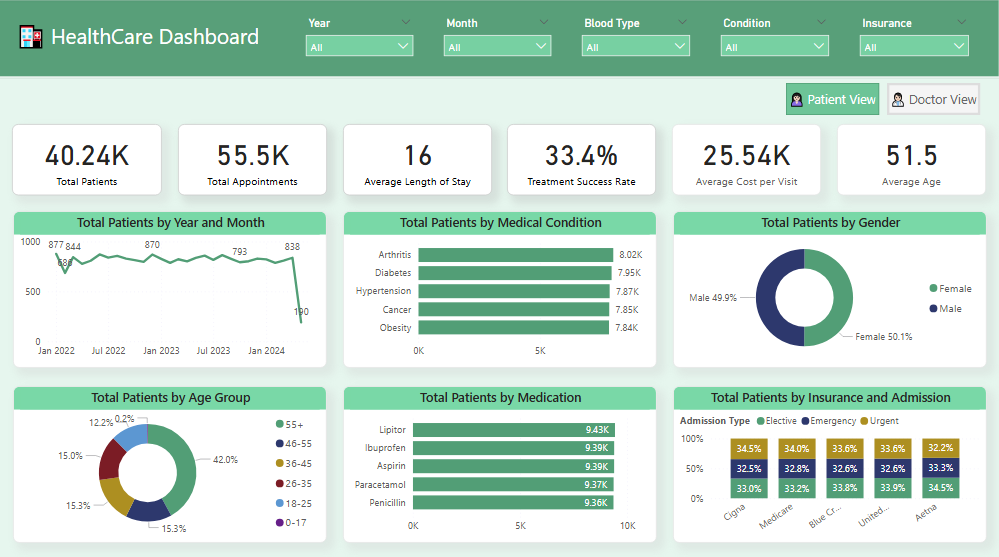

The page's visual inventory and layout, read from the dashboard file:
{"tool":"powerbi","page":{"name":"Patient View","canvas":[1280,720],"ordinal":0},"visuals":[{"type":"shape","box":[0,0,1280,102.9],"z":0},{"type":"slicer","fields":{"Values":["healthcare_dataset.Blood Type"]},"box":[736.1,18.6,157.7,67.4],"z":1000},{"type":"slicer","fields":{"Values":["healthcare_dataset.Medical Condition"]},"box":[913.1,18.6,157.7,67.4],"z":2000},{"type":"slicer","fields":{"Values":["healthcare_dataset.Insurance Provider"]},"box":[1090.1,18.6,159.2,67.4],"z":3000},{"type":"slicer","fields":{"Values":["Calendar.MonthName"]},"box":[559.9,18.5,156.8,67.6],"z":4000},{"type":"slicer","fields":{"Values":["Calendar.Year"]},"box":[383.7,18.5,156.8,67.6],"z":5000},{"type":"textbox","box":[19.8,23.8,336.8,55.5],"z":6000},{"type":"card","fields":{"Values":["_Measures.Average Cost per Visit"]},"box":[860.8,160.9,190,90.5],"z":7000},{"type":"card","fields":{"Values":["_Measures.Average Age"]},"box":[1070.9,160.9,190,90.5],"z":8000},{"type":"card","fields":{"Values":["_Measures.Total Appointments"]},"box":[230.5,160.9,190,90.5],"z":9000},{"type":"card","fields":{"Values":["_Measures.Treatment Success Rate"]},"box":[650.7,160.9,190,90.5],"z":10000},{"type":"card","fields":{"Values":["_Measures.Total Patients"]},"box":[19.1,160.9,191.2,90.5],"z":11000},{"type":"card","fields":{"Values":["_Measures.Average Length of Stay"]},"box":[440.6,160.9,190,90.5],"z":12000},{"type":"barChart","title":"Total Patients by Medication","fields":{"Category":["healthcare_dataset.Medication"],"Y":["_Measures.Total Patients"]},"box":[441.1,494.7,400.3,200.2],"z":13000},{"type":"donutChart","title":"Total Patients by Age Group","fields":{"Category":["healthcare_dataset.Age Bucket"],"Y":["_Measures.Total Patients"]},"box":[20.4,494.7,400.3,200.2],"z":14000},{"type":"lineChart","fields":{"Y":["_Measures.Total Patients"],"Category":["Calendar.Date.Variation.Date Hierarchy.Year","Calendar.Date.Variation.Date Hierarchy.Month"]},"box":[20.4,271.6,400.3,200.2],"z":15000},{"type":"hundredPercentStackedColumnChart","title":"Total Patients by Insurance and Admission","fields":{"Category":["healthcare_dataset.Insurance Provider"],"Y":["_Measures.Total Patients"],"Series":["healthcare_dataset.Admission Type"]},"box":[861.8,494.7,400.3,200.2],"z":16000},{"type":"donutChart","title":"Total Patients by Gender","fields":{"Category":["healthcare_dataset.Gender"],"Y":["_Measures.Total Patients"]},"box":[861.8,271.7,400.2,200],"z":17000},{"type":"clusteredBarChart","title":"Total Patients by Medical Condition","fields":{"Y":["_Measures.Total Patients"],"Category":["healthcare_dataset.Medical Condition"]},"box":[441.1,271.6,400.3,200.2],"z":18000},{"type":"actionButton","box":[1006.5,108.6,118.9,40.9],"z":19000},{"type":"actionButton","box":[1134.7,108.6,118.9,40.9],"z":20000}]}

Visuals, with their boxes in screenshot pixels (x1, y1, x2, y2), scaled from the page's 1280x720 canvas onto the 999x557 screenshot:
shape: [left=0, top=0, right=998, bottom=80]
slicer - healthcare_dataset.Blood Type: [left=575, top=14, right=698, bottom=67]
slicer - healthcare_dataset.Medical Condition: [left=713, top=14, right=836, bottom=67]
slicer - healthcare_dataset.Insurance Provider: [left=851, top=14, right=975, bottom=67]
slicer - Calendar.MonthName: [left=437, top=14, right=559, bottom=67]
slicer - Calendar.Year: [left=299, top=14, right=422, bottom=67]
textbox: [left=15, top=18, right=278, bottom=61]
card - _Measures.Average Cost per Visit: [left=672, top=124, right=820, bottom=194]
card - _Measures.Average Age: [left=836, top=124, right=984, bottom=194]
card - _Measures.Total Appointments: [left=180, top=124, right=328, bottom=194]
card - _Measures.Treatment Success Rate: [left=508, top=124, right=656, bottom=194]
card - _Measures.Total Patients: [left=15, top=124, right=164, bottom=194]
card - _Measures.Average Length of Stay: [left=344, top=124, right=492, bottom=194]
"Total Patients by Medication" barChart: [left=344, top=383, right=657, bottom=538]
"Total Patients by Age Group" donutChart: [left=16, top=383, right=328, bottom=538]
lineChart - _Measures.Total Patients x Calendar.Date.Variation.Date Hierarchy.Year: [left=16, top=210, right=328, bottom=365]
"Total Patients by Insurance and Admission" hundredPercentStackedColumnChart: [left=673, top=383, right=985, bottom=538]
"Total Patients by Gender" donutChart: [left=673, top=210, right=985, bottom=365]
"Total Patients by Medical Condition" clusteredBarChart: [left=344, top=210, right=657, bottom=365]
actionButton: [left=786, top=84, right=878, bottom=116]
actionButton: [left=886, top=84, right=978, bottom=116]
